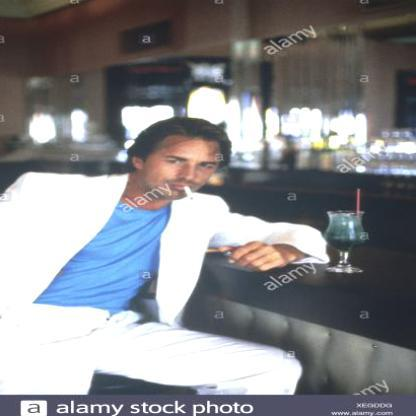cigarette: (181, 186, 195, 202)
person: (0, 116, 286, 412)
